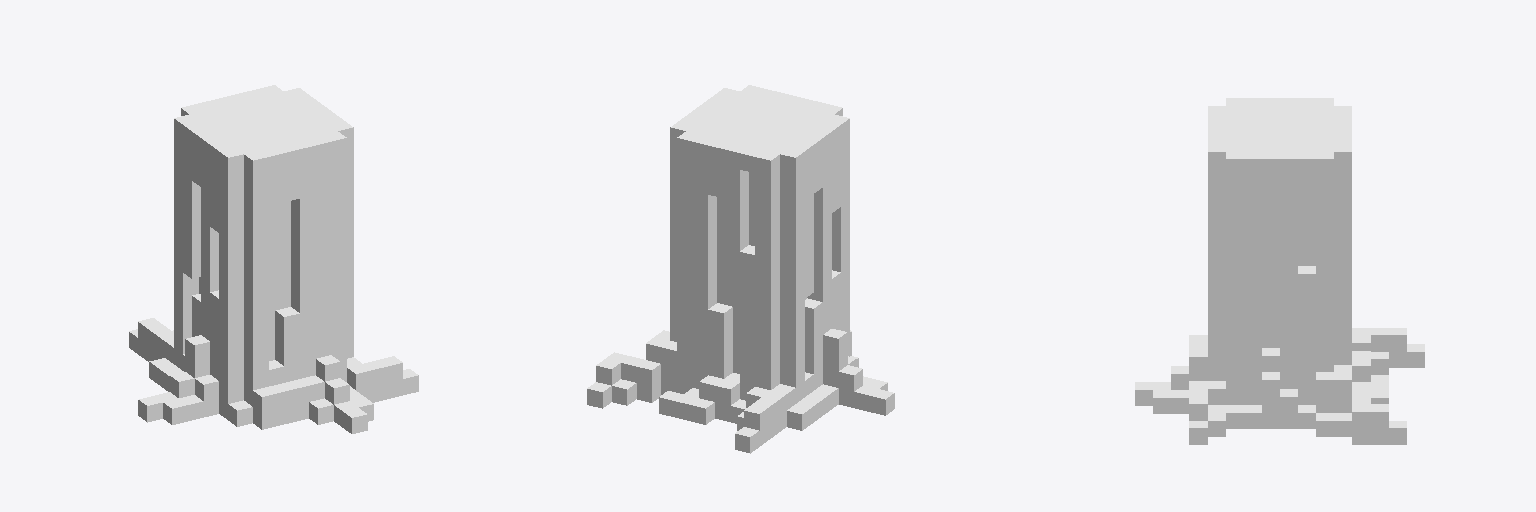
The model's file is BaseSegment_8x8.obj.
3 renders of one model, left to right at view 1: azimuth 30°, elevation 25°; view 2: azimuth 150°, elevation 25°; view 3: azimuth 270°, elevation 25°, orthographic.
Parts seen in each view (by area): view 1: object 1; view 2: object 1; view 3: object 1.
Part boxes in pixels (x1,y1,x2,y2): object 1: (129, 85, 418, 433); object 1: (587, 85, 894, 453); object 1: (1135, 98, 1424, 444).
Bounding box in the file's own units: 1.5 × 1.6 × 1.6.